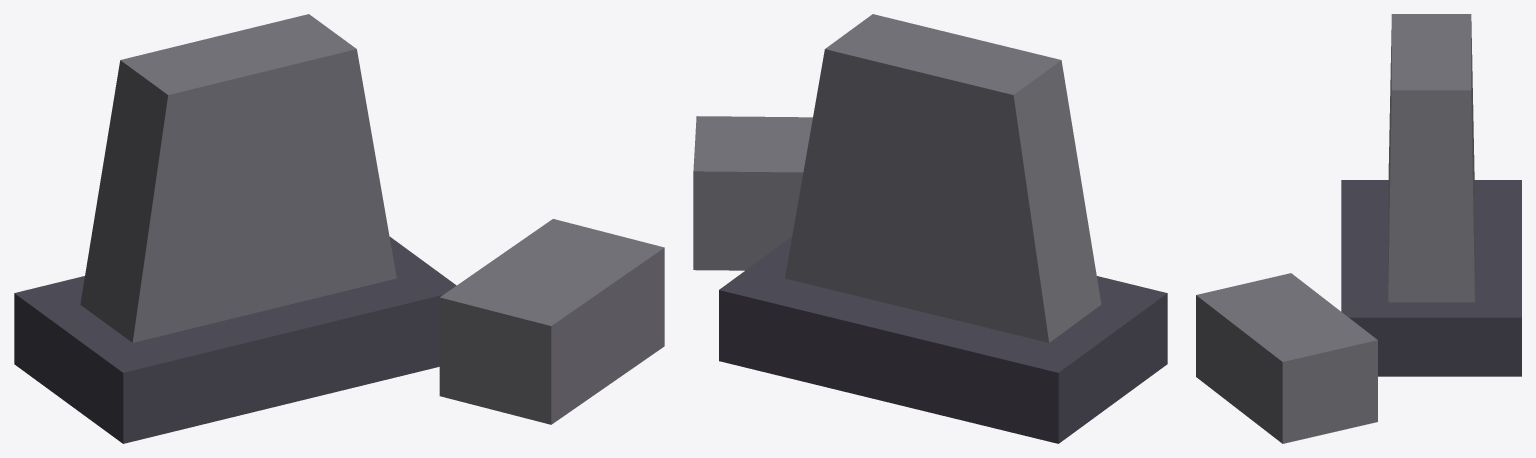
File: gravestone_broken.fbx
The picture shows the model from 3 angles, left to right: view 1: azimuth 30°, elevation 25°; view 2: azimuth 150°, elevation 25°; view 3: azimuth 270°, elevation 25°; orthographic projection. The views are drawn at different scales.
Parts seen in each view (by area): view 1: gravestone_broken; view 2: gravestone_broken; view 3: gravestone_broken.
Part boxes in pixels (left/top/right/bottom): gravestone_broken: left=14, top=14, right=664, bottom=443; gravestone_broken: left=693, top=14, right=1167, bottom=443; gravestone_broken: left=1196, top=14, right=1521, bottom=443.
Size of the model in its own units: 1.34 by 0.78 by 0.9015.
